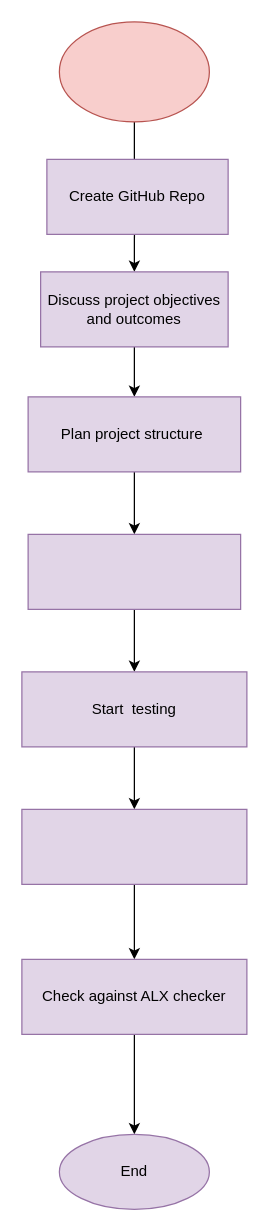
The diagram is 269 pixels wide and 1231 high, and some of its shapes have lost their labels. Each missing label, with the centre of its shape:
Git commit and pushing: point (134, 846)
Start coding: point (134, 571)
Start: 9/07/2022: point (133, 71)
